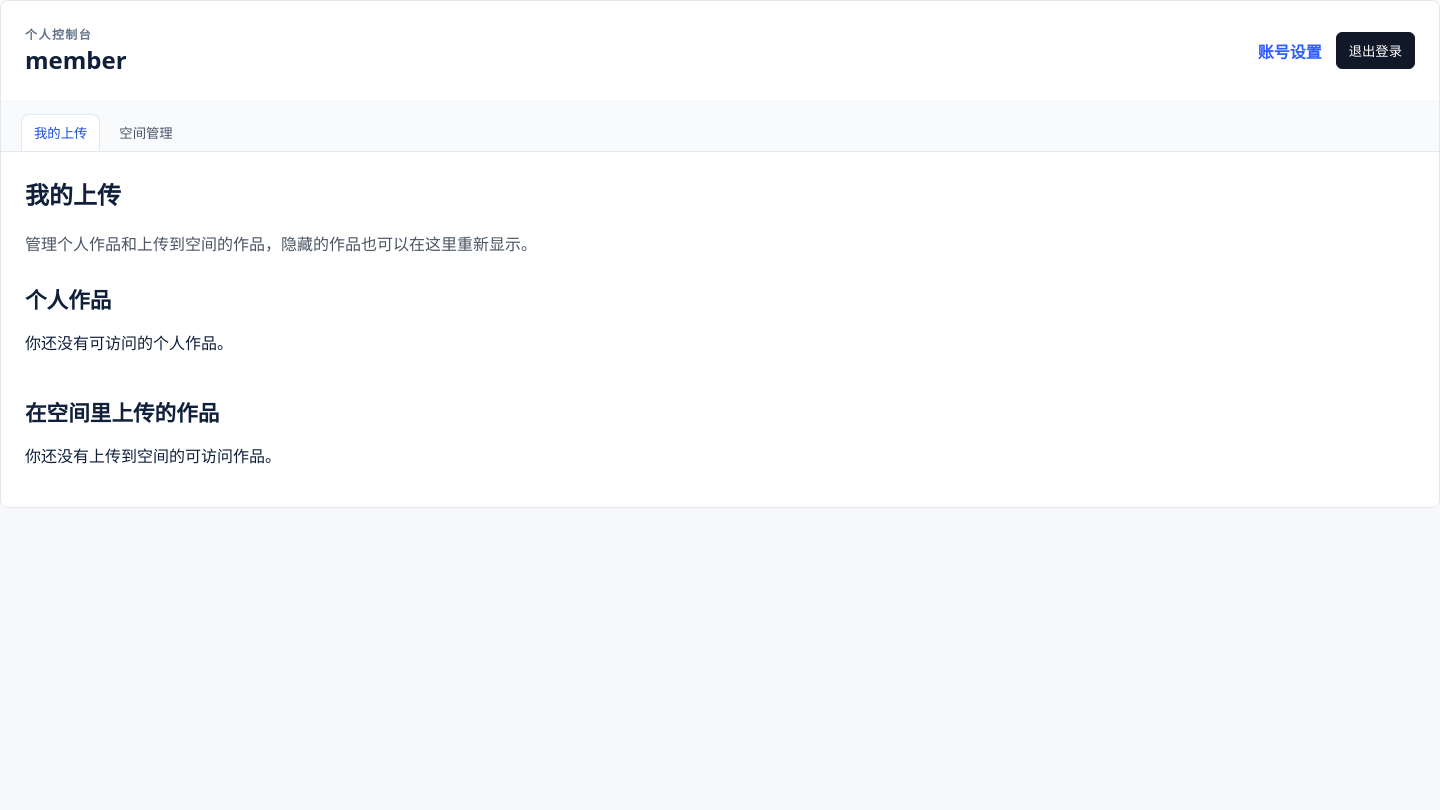
Test: DashboardPage › opens a modal instead of showing an inline space form
Click the button "空间管理" at (146, 132), box [106,114,186,151]
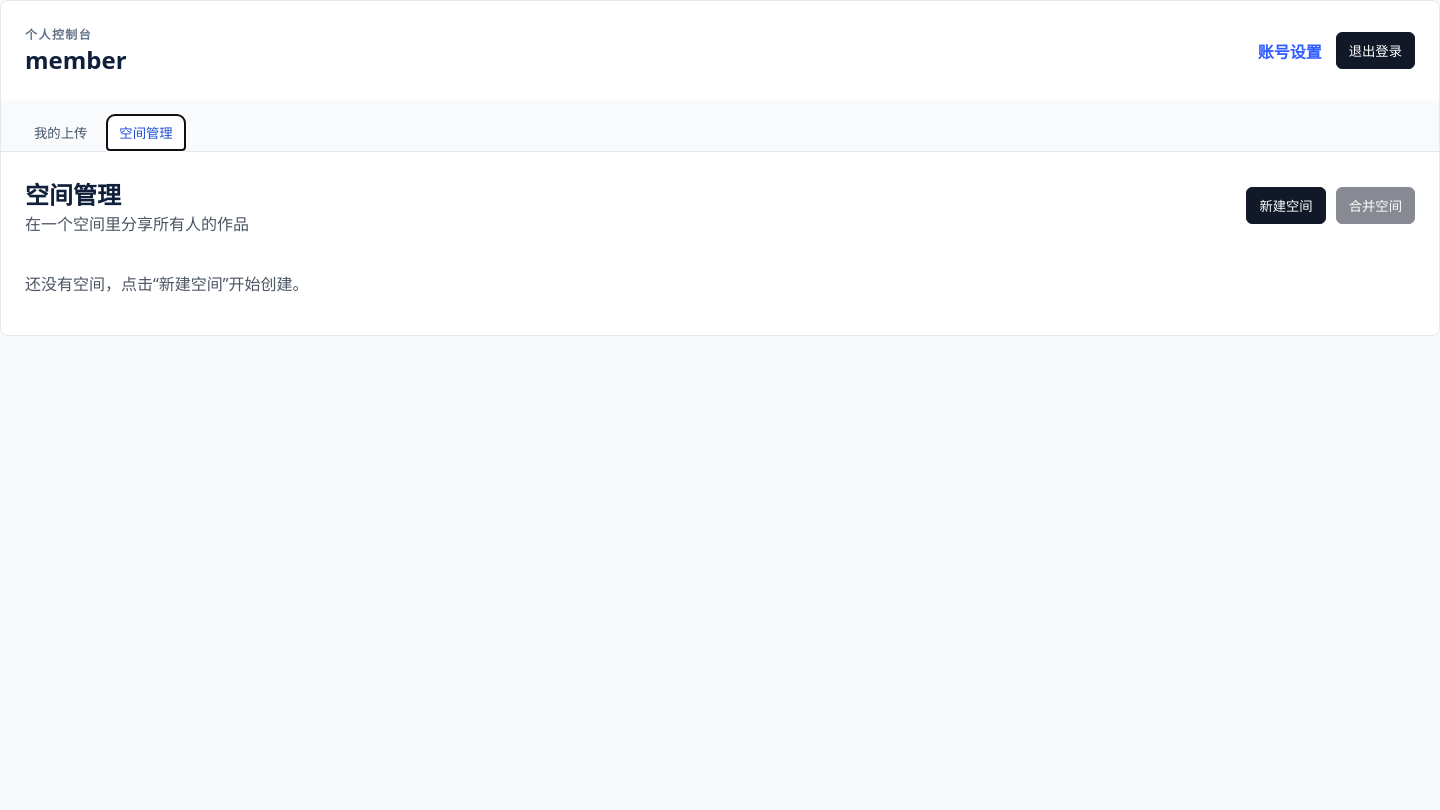
Expected: the field labelled "空间名称" is not shown
Click the button "新建空间" at (1286, 206), box [1246,187,1326,224]
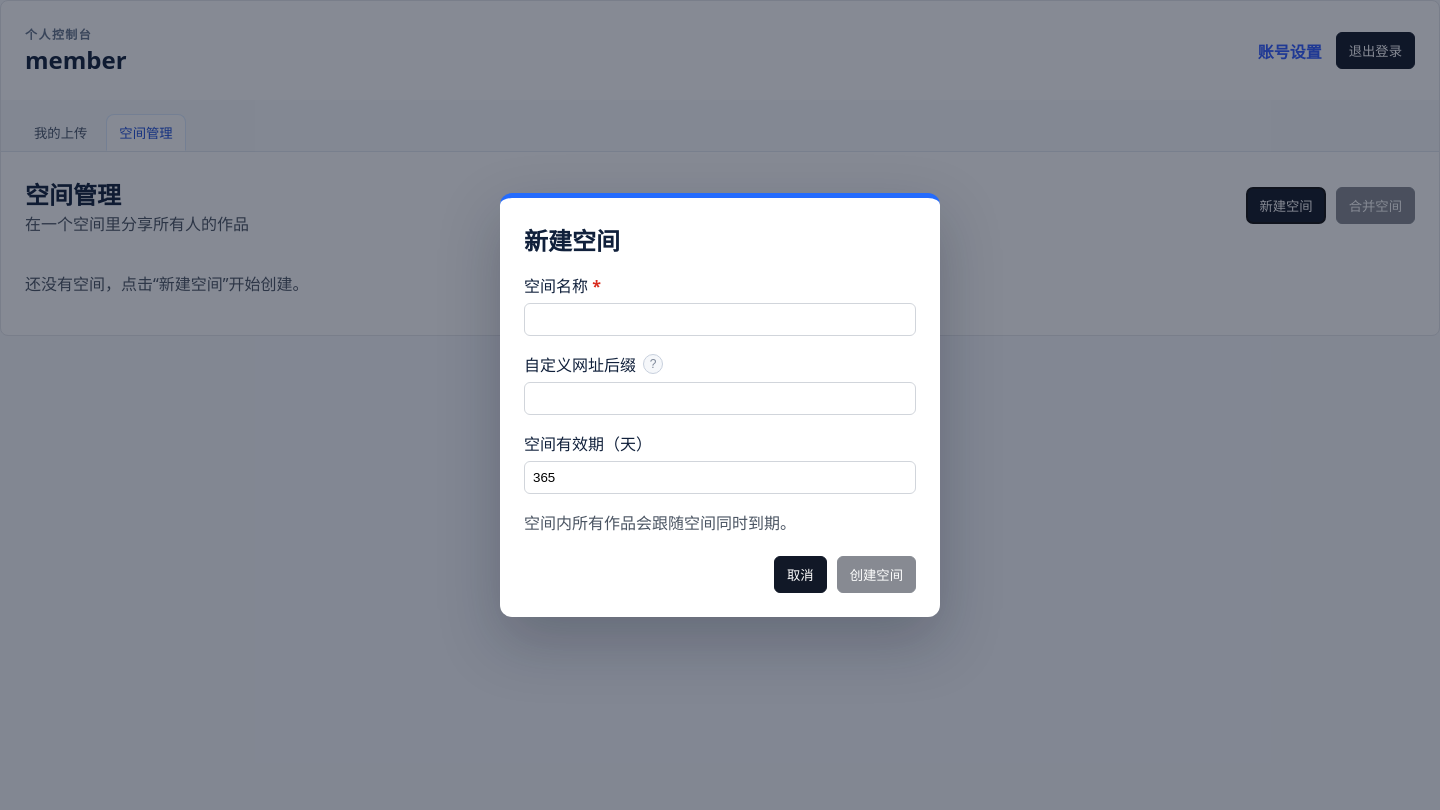
Now the dialog "新建空间" is shown, box [500,193,940,617]
